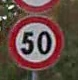limite 50: (7, 14, 63, 70)
